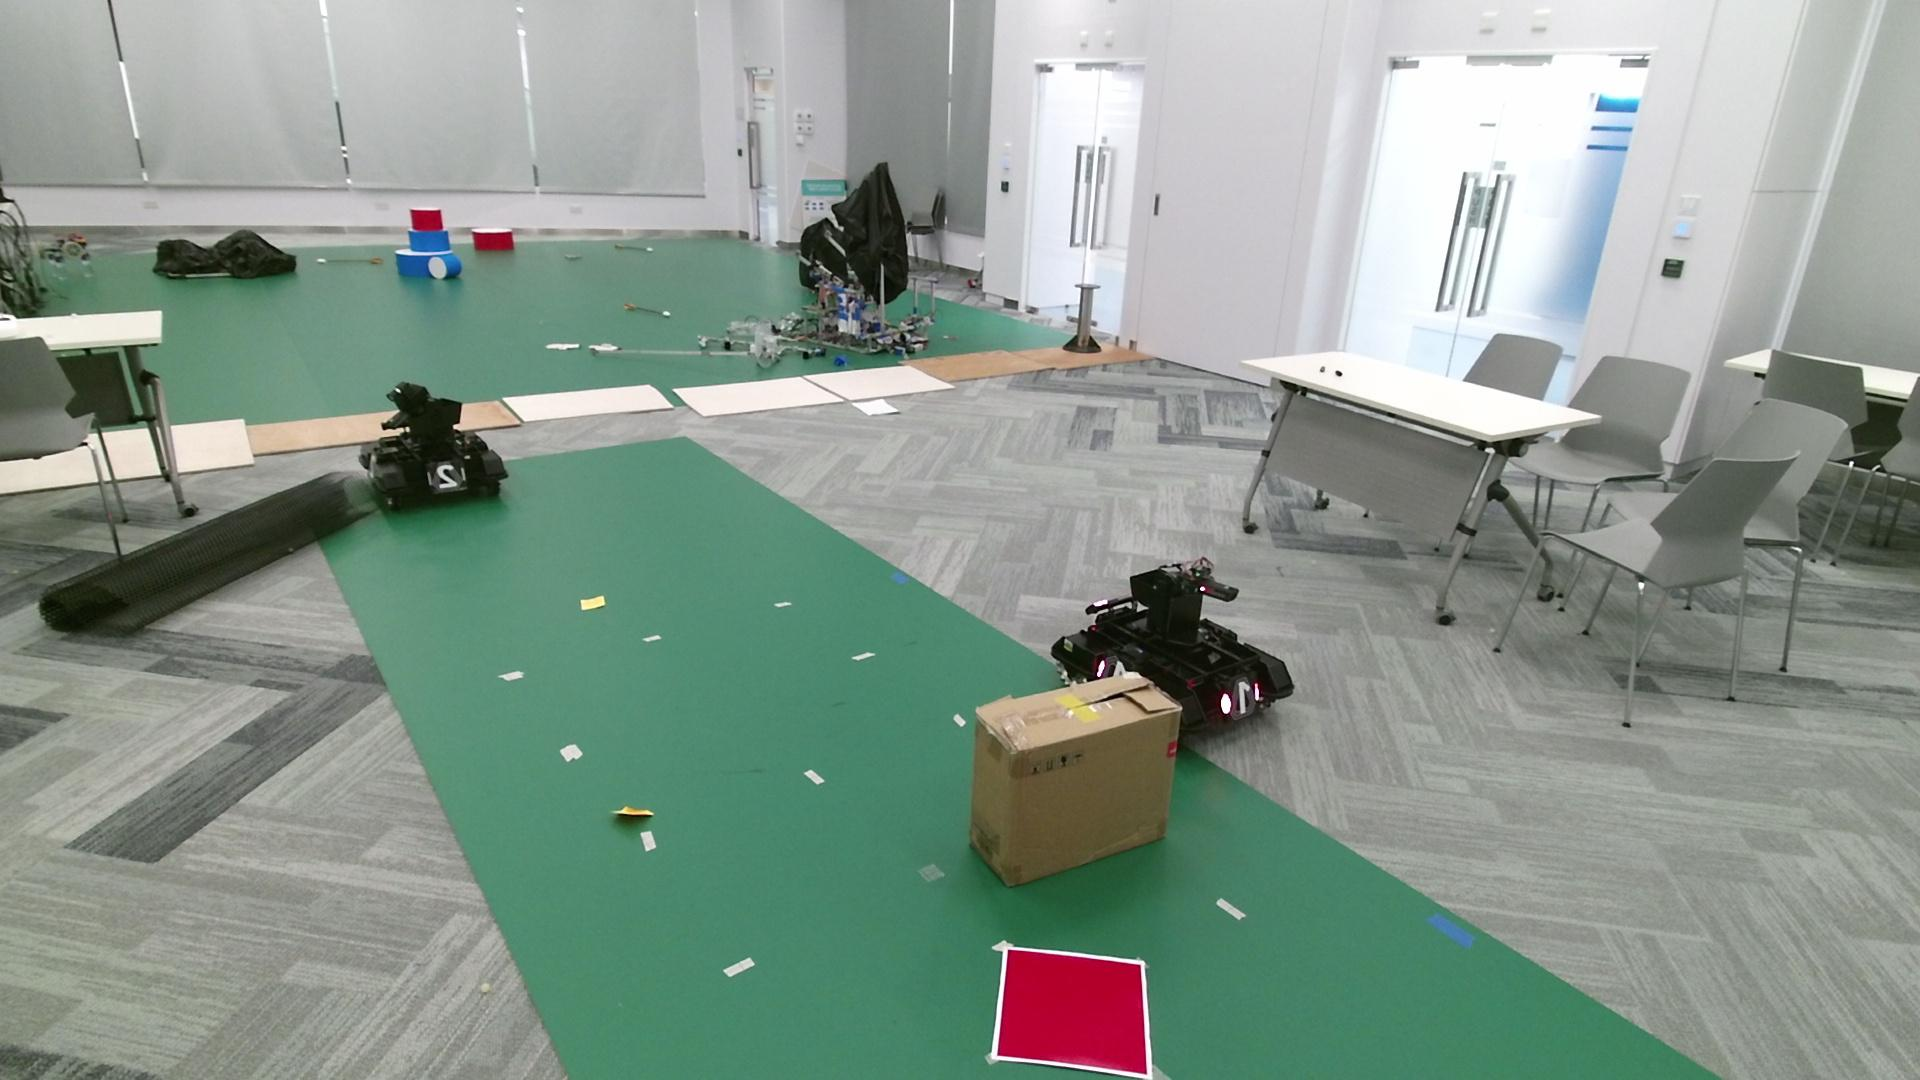robot: (1048, 555, 1295, 738), (357, 380, 509, 512)
